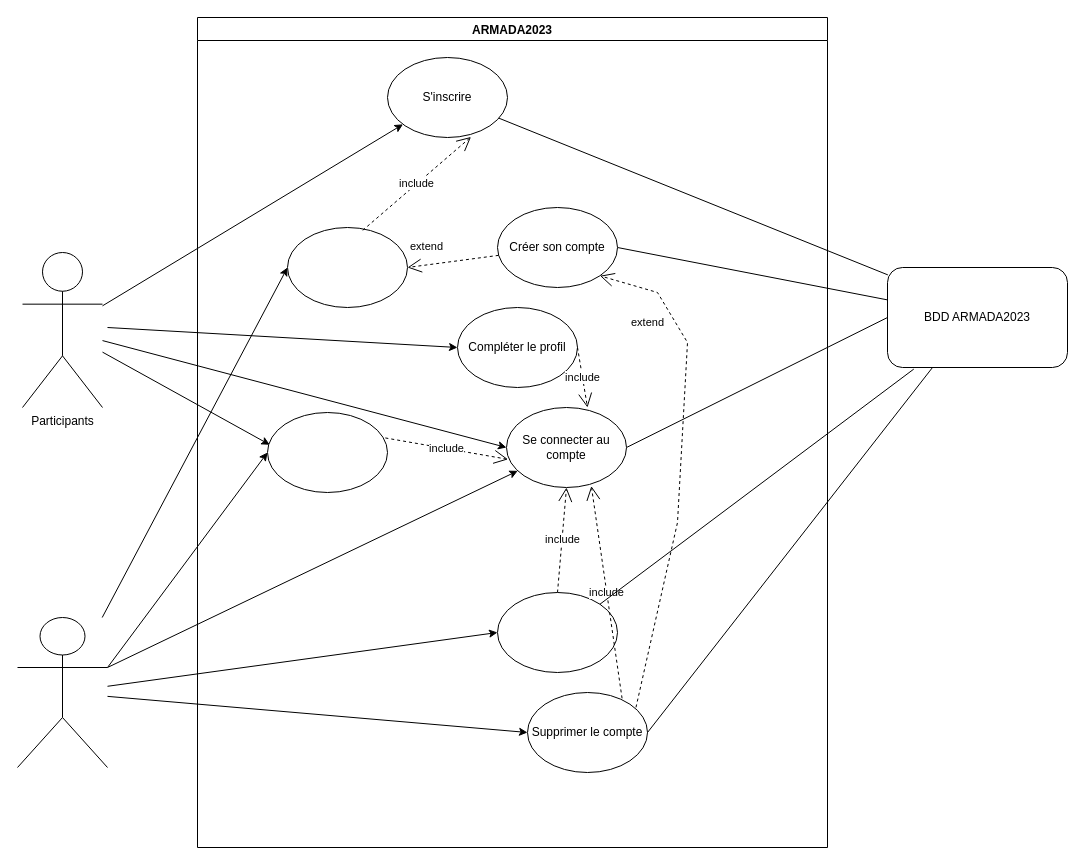
This 1085x865 diagram has some shape labels left out. The centre of each missing label's shape, as x and y in pixels:
Consulter le profil: the point at 327,452
Modifier les paramètres d'un compte: the point at 557,632
Organisateurs: the point at 62,692
Valider l'inscription: the point at 347,267
